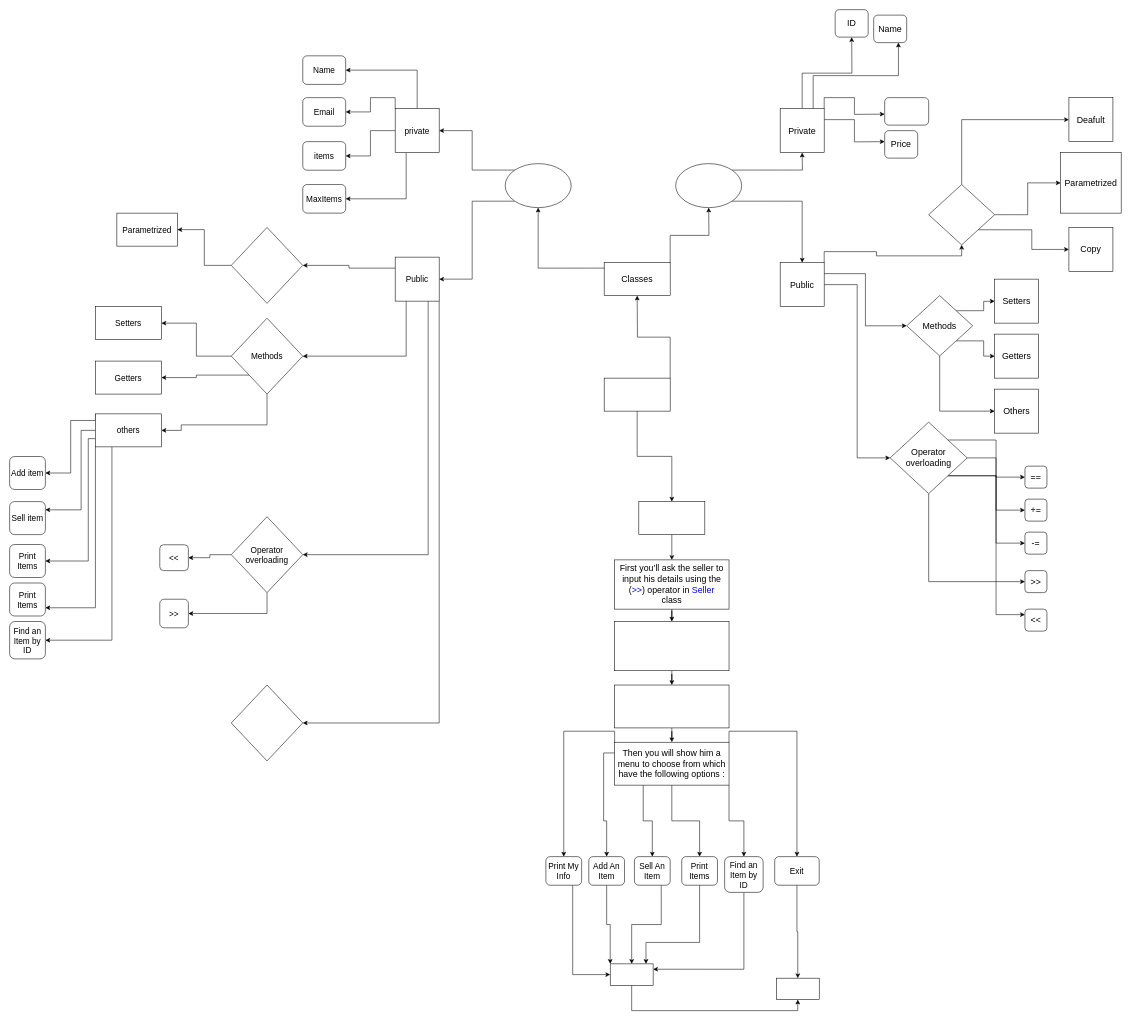
The diagram is 1131 pixels wide and 1025 high, and some of its shapes have lost their labels. The box of each missing label's shape, as (x1, y1, x2, y2) in pixels:
Constructors: (231, 227, 303, 303)
Constuctors: (928, 184, 995, 245)
Destructor: (231, 684, 303, 761)
Do Task: (610, 963, 653, 985)
Item: (675, 163, 742, 208)
Main: (638, 501, 705, 535)
online shoping system: (604, 378, 670, 411)
Qunatatiy: (884, 97, 929, 125)
Return: (776, 978, 819, 1000)
Seller: (505, 163, 571, 208)
Then you will show him a menu to choose from which have the following: (614, 684, 729, 728)
Then you’ll ask him for his store capacity (maxNumberOfItems): (614, 621, 729, 671)
